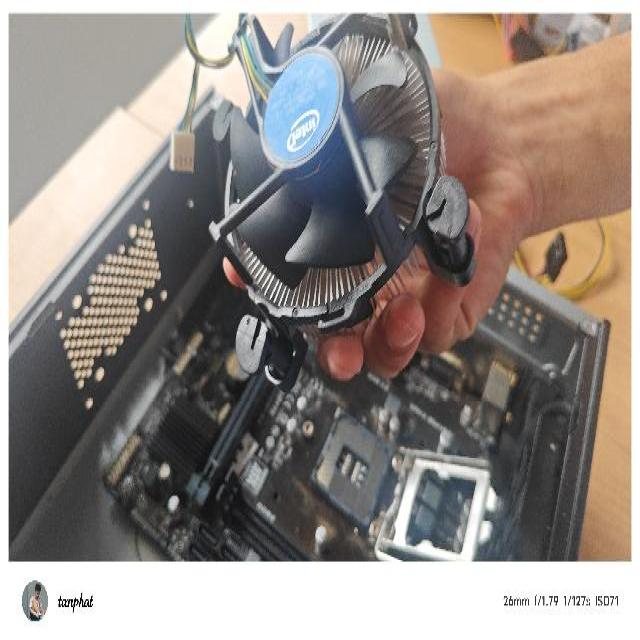CPU_Fan: (199, 13, 476, 394)
